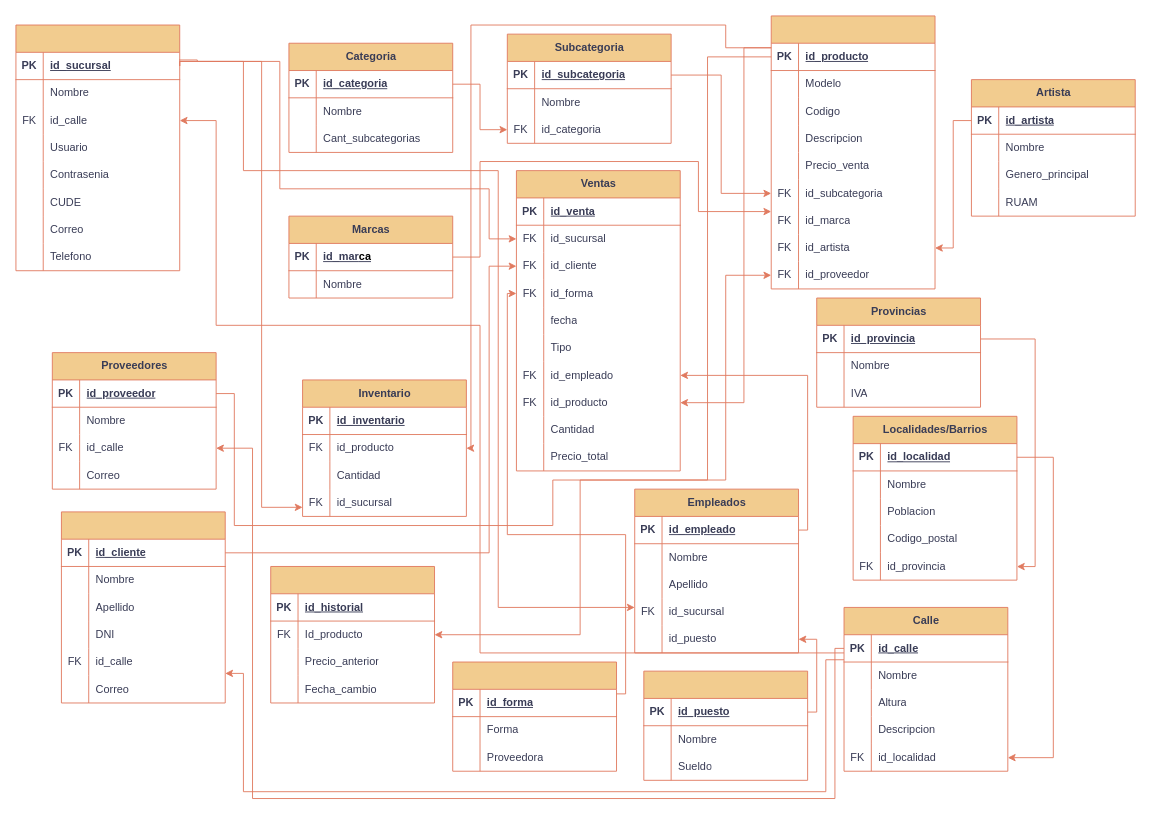
Image size: 1151x822. Some labels were removed from this diagram. Here are the shapes that lost their labels. From the top down, the box of each, then its label:
(15, 24, 180, 271): Sucursales
(770, 15, 935, 289): Productos
(61, 511, 225, 703): Clientes
(270, 566, 435, 703): Historial_percios
(452, 661, 617, 771): Formas_pago
(643, 670, 808, 780): Puestos
